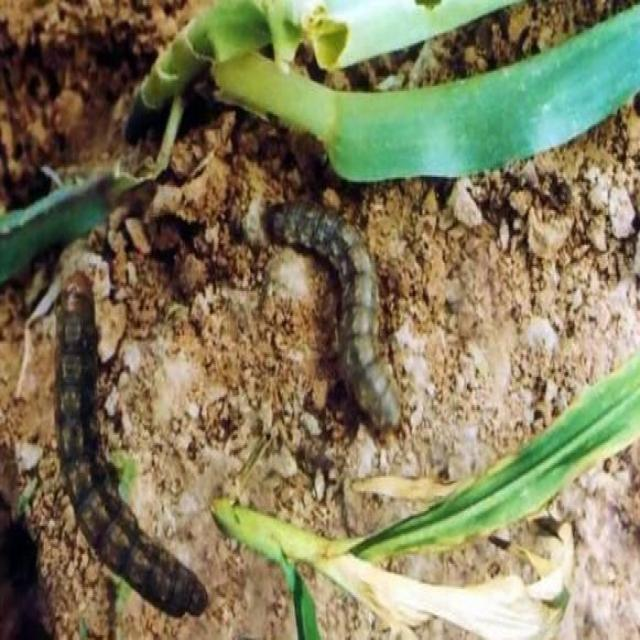black cutworm: (43, 266, 226, 616), (259, 185, 412, 453)
